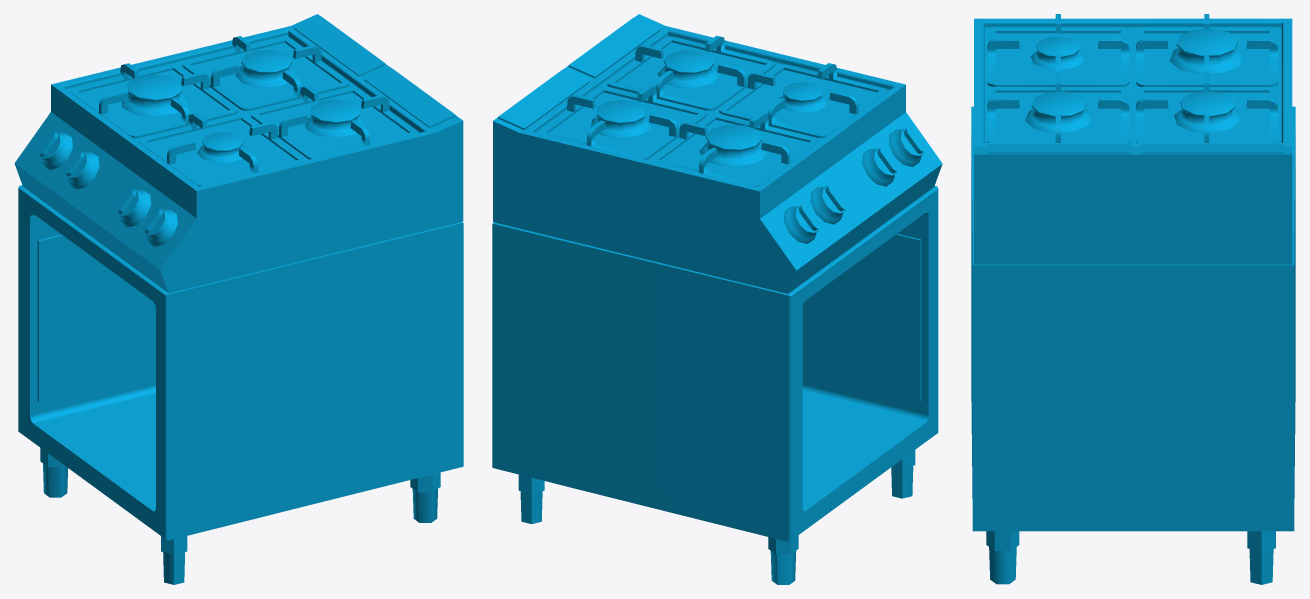
File: Restaurant_Gas_Stove_Lod1.fbx
The picture shows the model from 3 angles, left to right: view 1: azimuth 30°, elevation 25°; view 2: azimuth 150°, elevation 25°; view 3: azimuth 270°, elevation 25°; orthographic projection. The views are drawn at different scales.
Visible parts, largest first — view 1: Restaurant_Gas_Stove_Lod1; view 2: Restaurant_Gas_Stove_Lod1; view 3: Restaurant_Gas_Stove_Lod1.
Boxes of the visible parts, left/top/right/bottom form: Restaurant_Gas_Stove_Lod1: left=14, top=14, right=463, bottom=584; Restaurant_Gas_Stove_Lod1: left=492, top=14, right=942, bottom=584; Restaurant_Gas_Stove_Lod1: left=971, top=14, right=1295, bottom=584.
Size of the model in its own units: 69.61 by 89.7 by 59.19.
